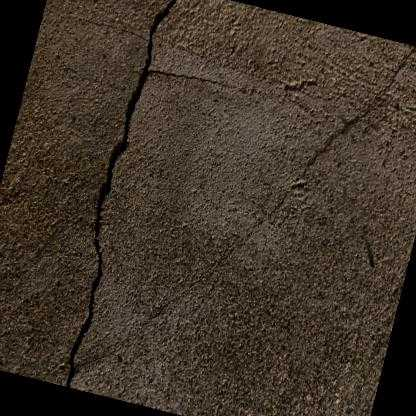crack: (62, 0, 179, 387)
